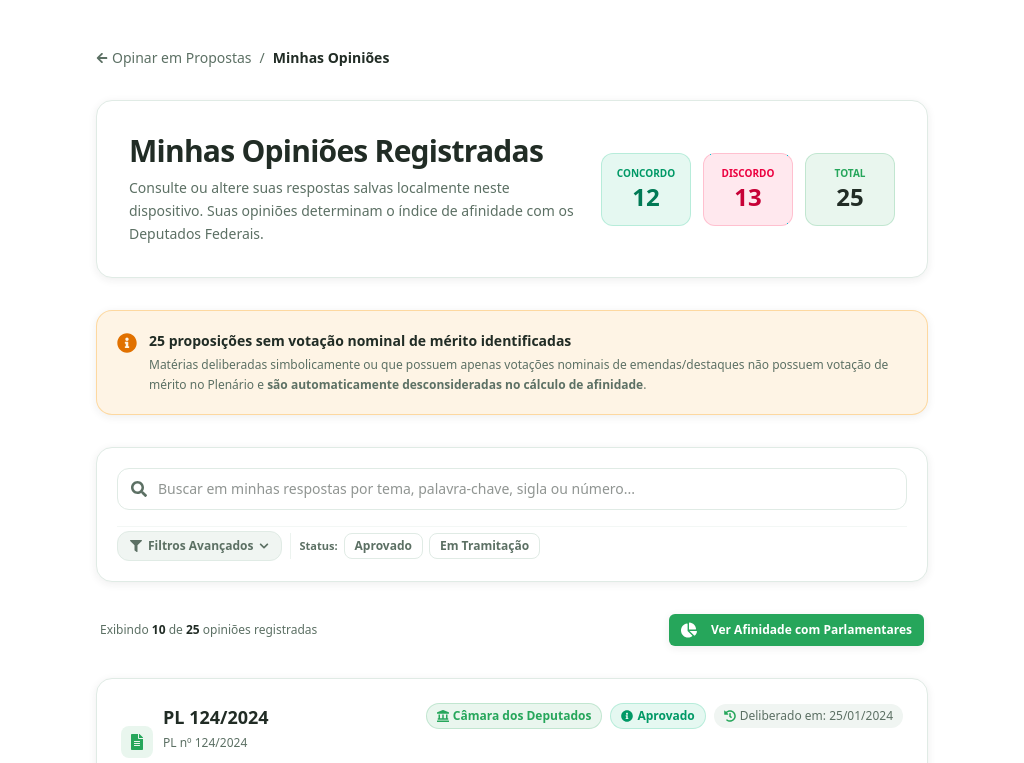
Scenario: RevisaoPage - Paginação e Filtros › filtra opiniões por texto e reseta paginação
Expected: the heading "Minhas Opiniões Registradas" is shown, [129,133,577,169]
Step 1. Replace the text in the field with placeholder "Buscar em minhas respostas" with "PL 105" → point(512, 489), box [117,468,907,510]
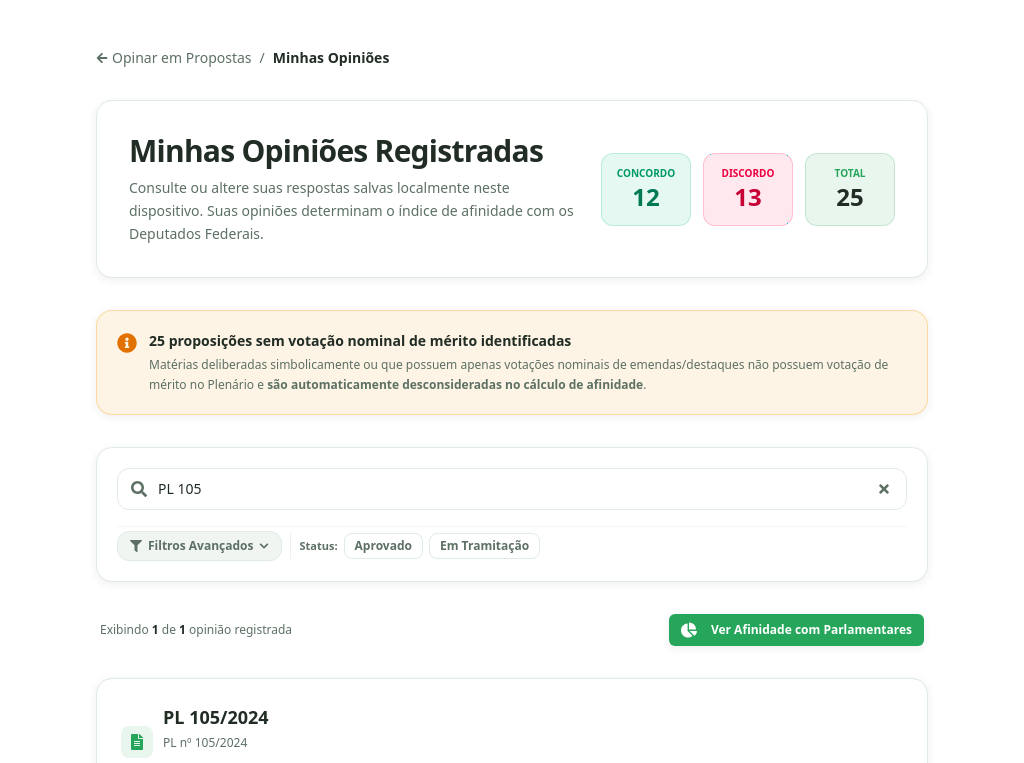
Result: the heading "PL 105/2024" is shown at [163,705,269,729]
